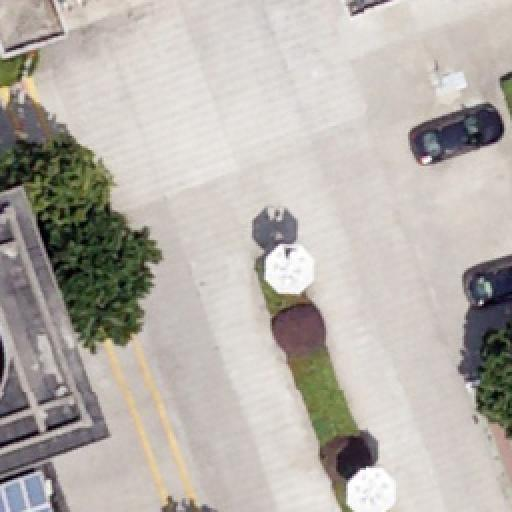solar-panel: (1, 472, 55, 512)
